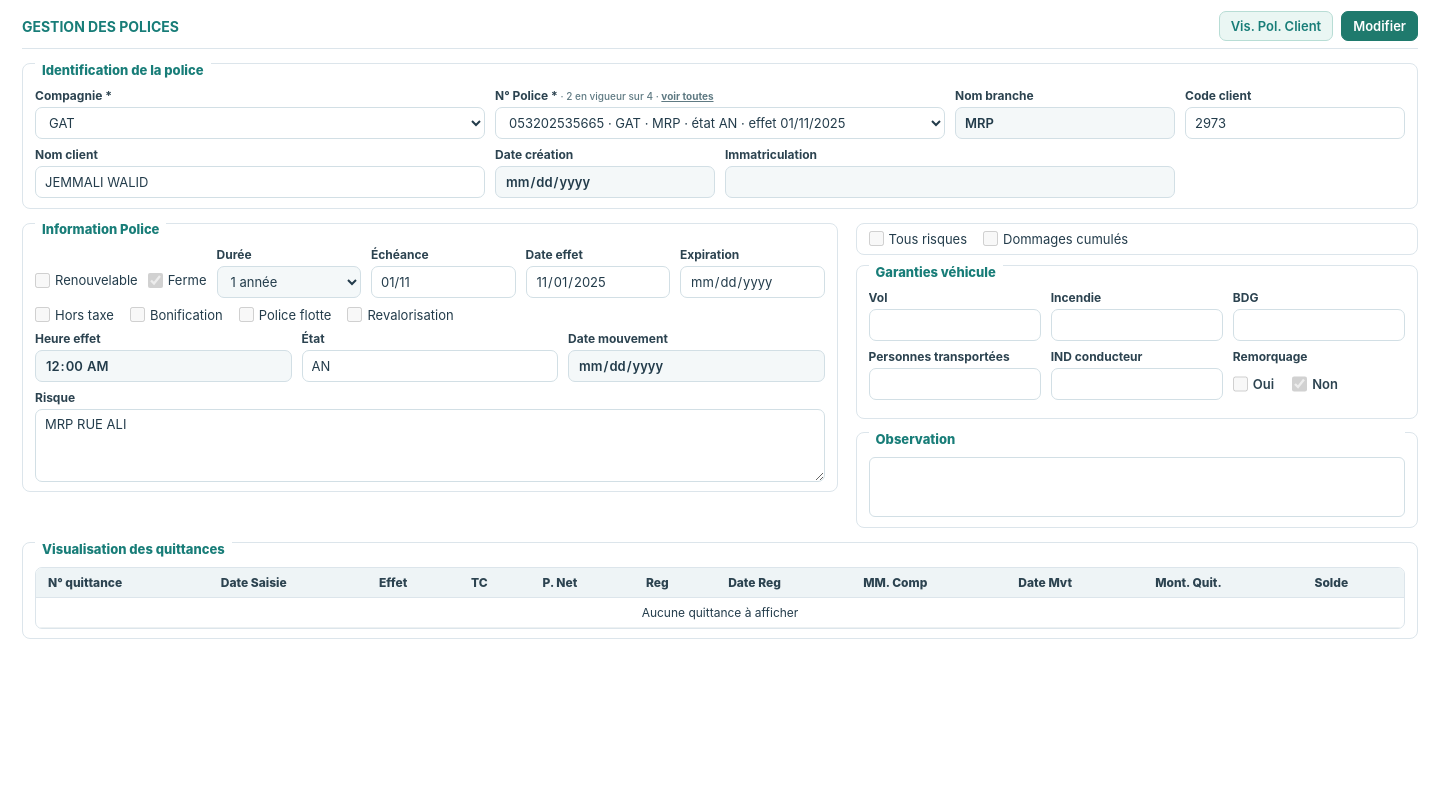
Test case: the police is locked until "Modifier"; "Enregistrer" stores only what changed
This screenshot has width=1440, height=810.
Expected: the dropdown named "N° Police" shows "053202535665 · GAT · MRP · état AN · effet 01/11/2025", [495, 107, 945, 139]
Click the button "Modifier": (1380, 26) [1341, 11, 1418, 41]
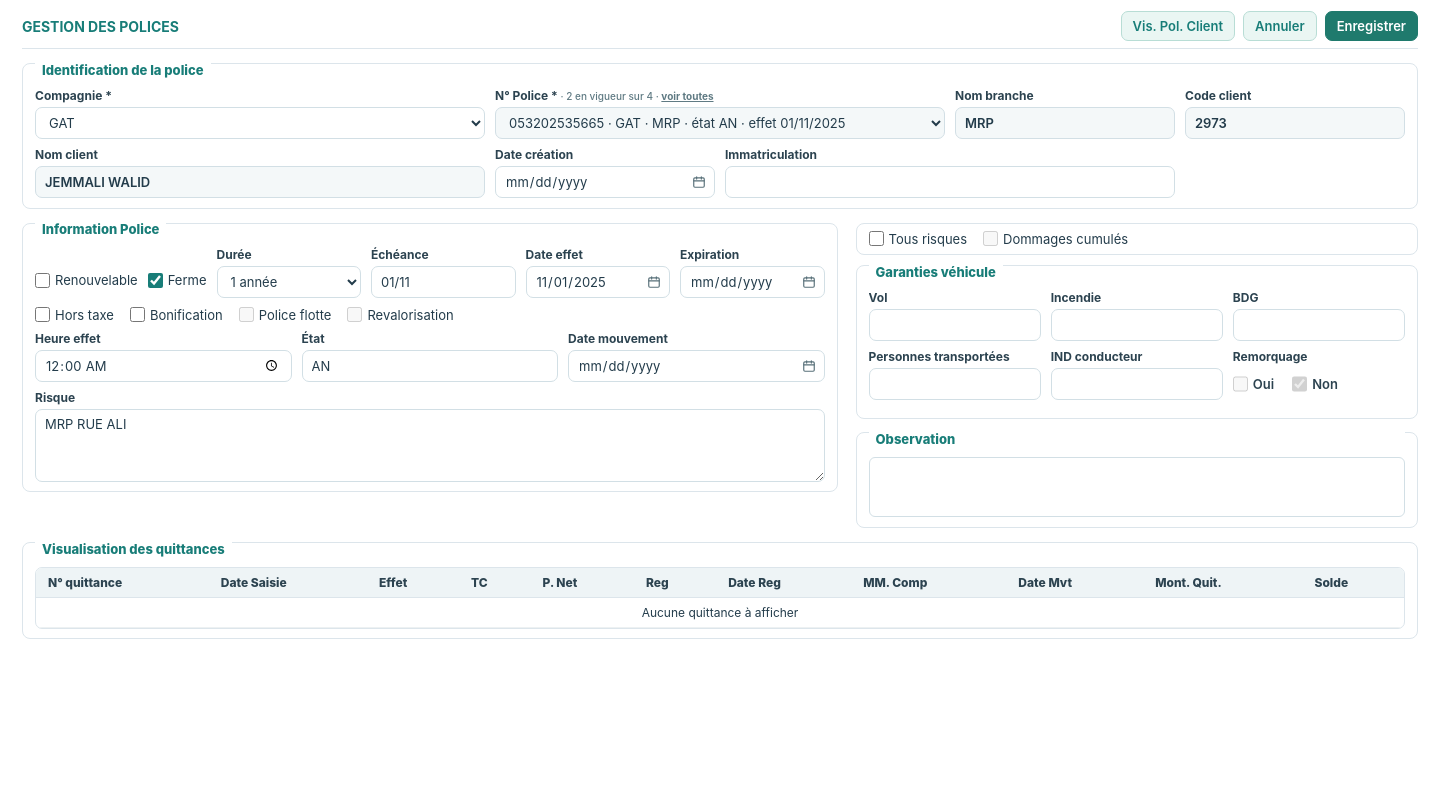
Expected: the dropdown named "N° Police" is disabled, [495, 107, 945, 139]
Replace the text in the text box showing "MRP RUE ALI" with "MRP RUE ALI BALHAOUANE": (430, 445) [35, 409, 824, 482]
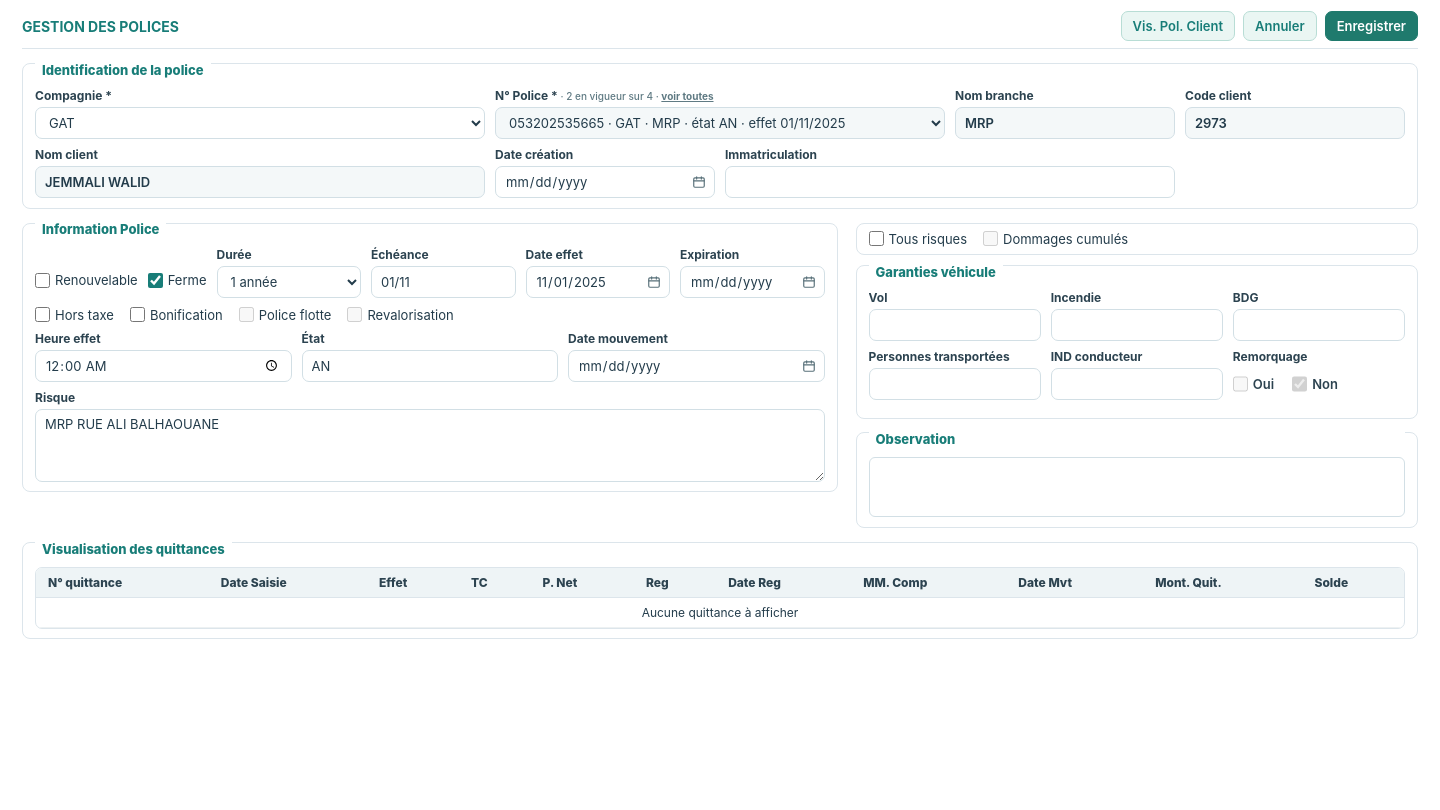
Click the button "Enregistrer": (1371, 26) [1325, 11, 1418, 41]
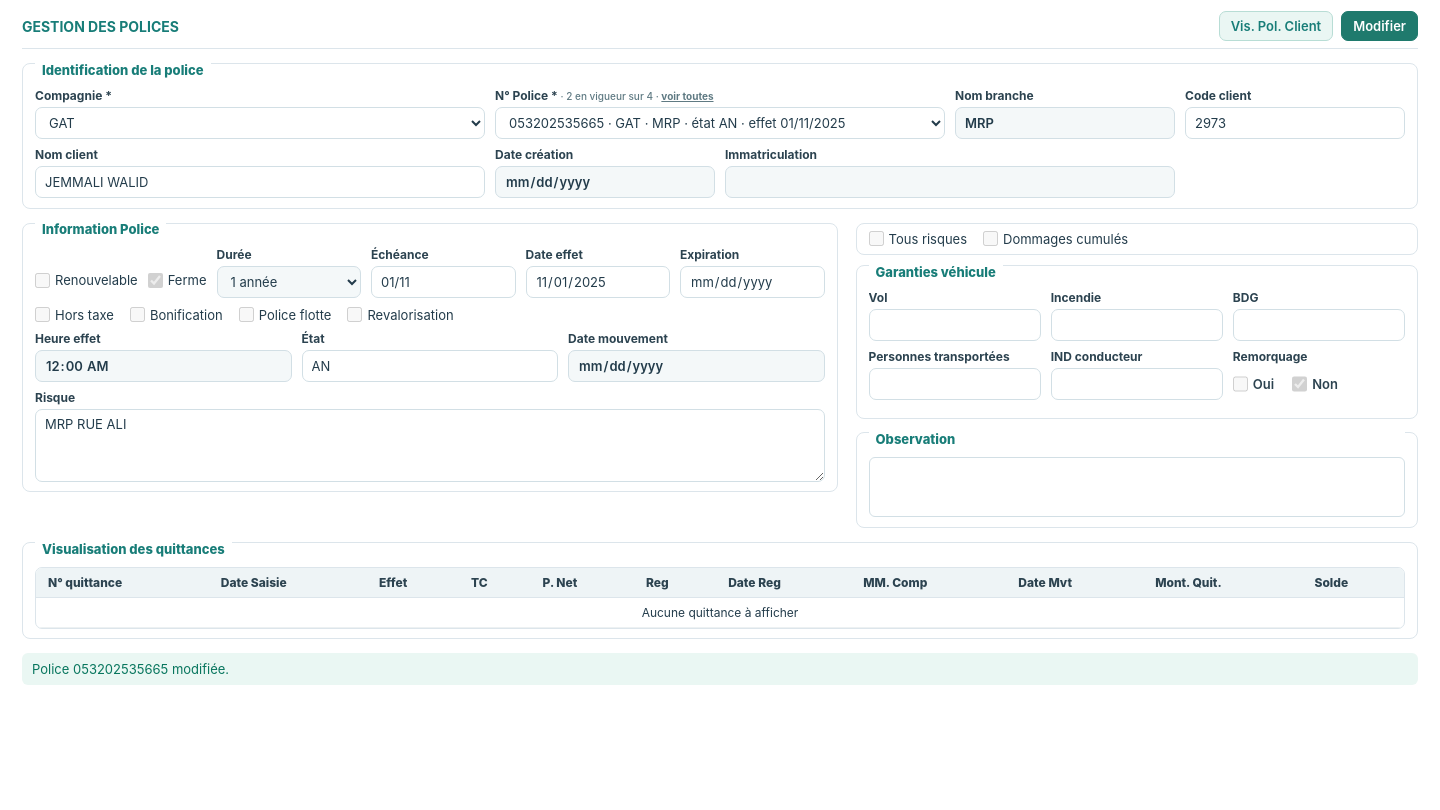
Now the text "Police 053202535665 modifiée." is shown, box [22, 653, 1418, 685]
Now the button "Modifier" is shown, box [1341, 11, 1418, 41]
